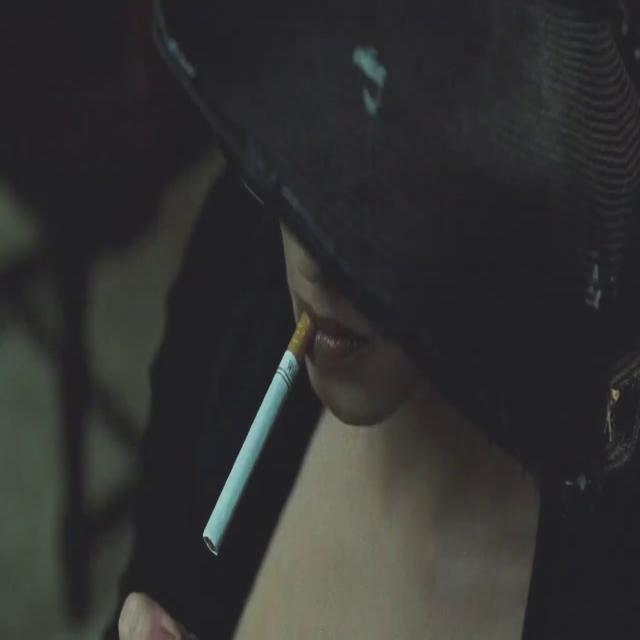Smooking: (178, 285, 324, 597)
